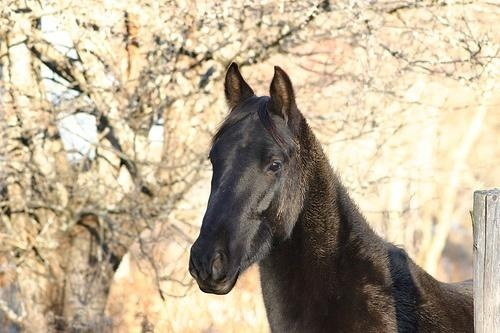horse: (191, 61, 474, 332)
